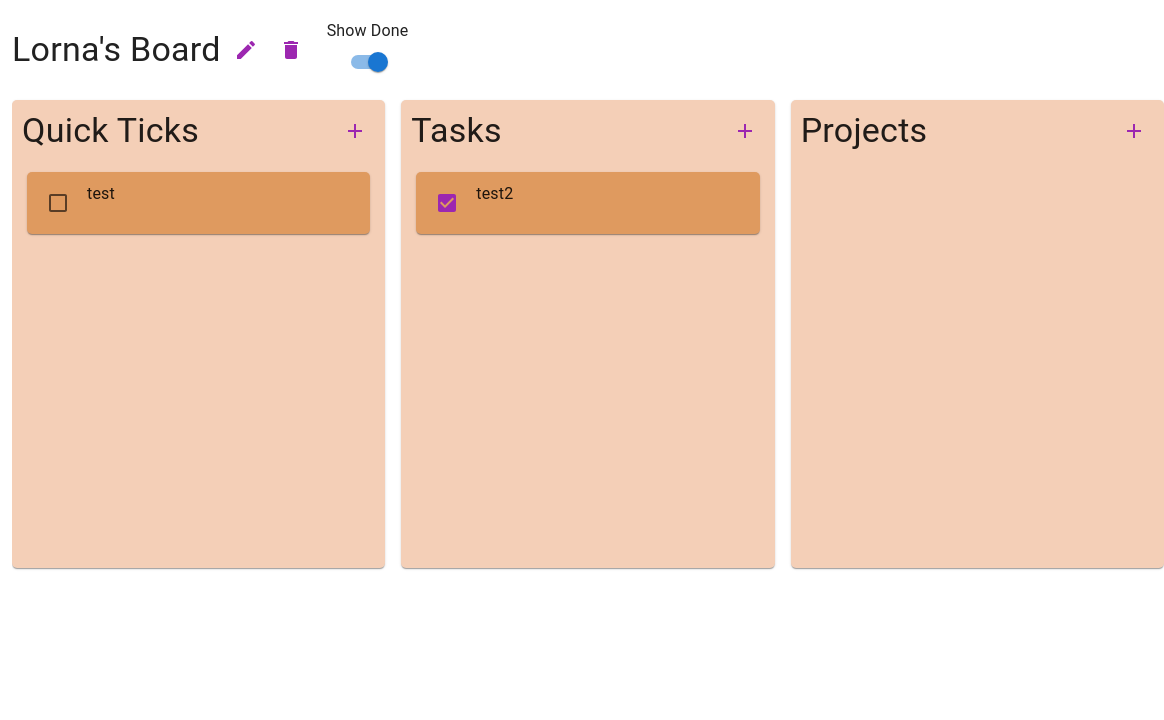
Test: Board page › should not render done jobs when toggle is false
The width and height of the screenshot is (1164, 720).
Check: the element with test id "job-tick-1" is shown, box [87,182,115,206]
Check: the element with test id "job-task-2" is shown, box [476,182,513,206]
Click the element with test id "toggle-done-view".
click(378, 62)  # box [368,52,388,72]
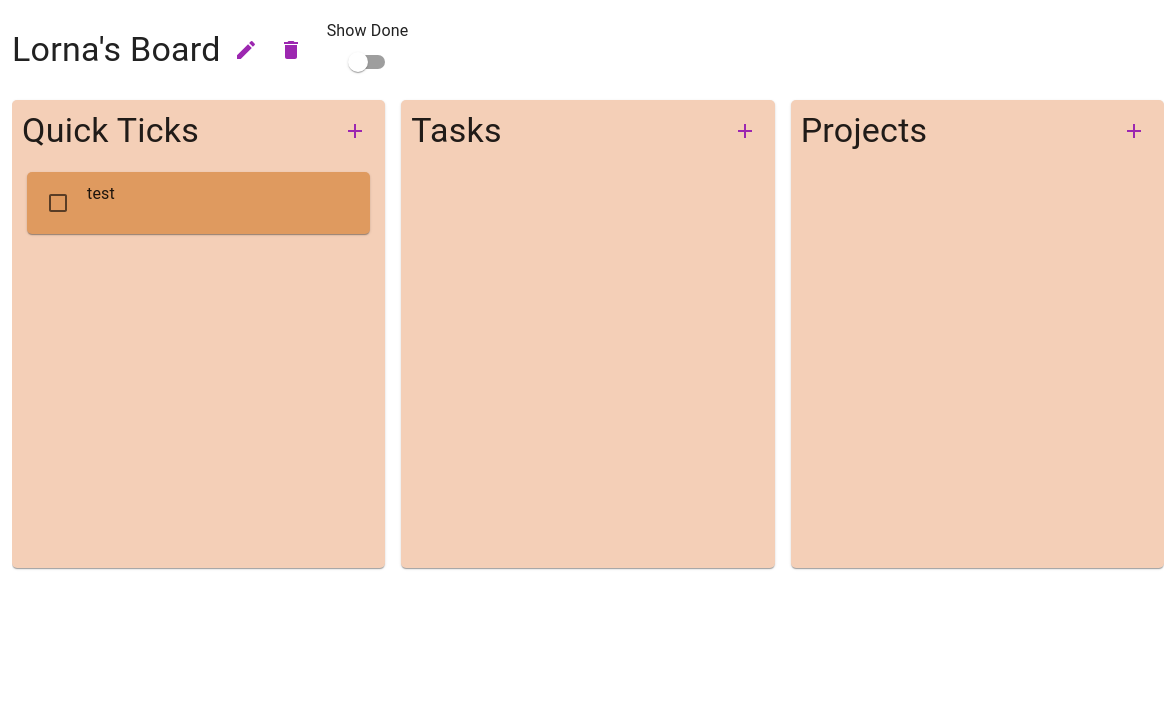
Check: the element with test id "job-tick-1" is shown, box [87,182,115,206]
Check: the element with test id "job-task-2" is gone
